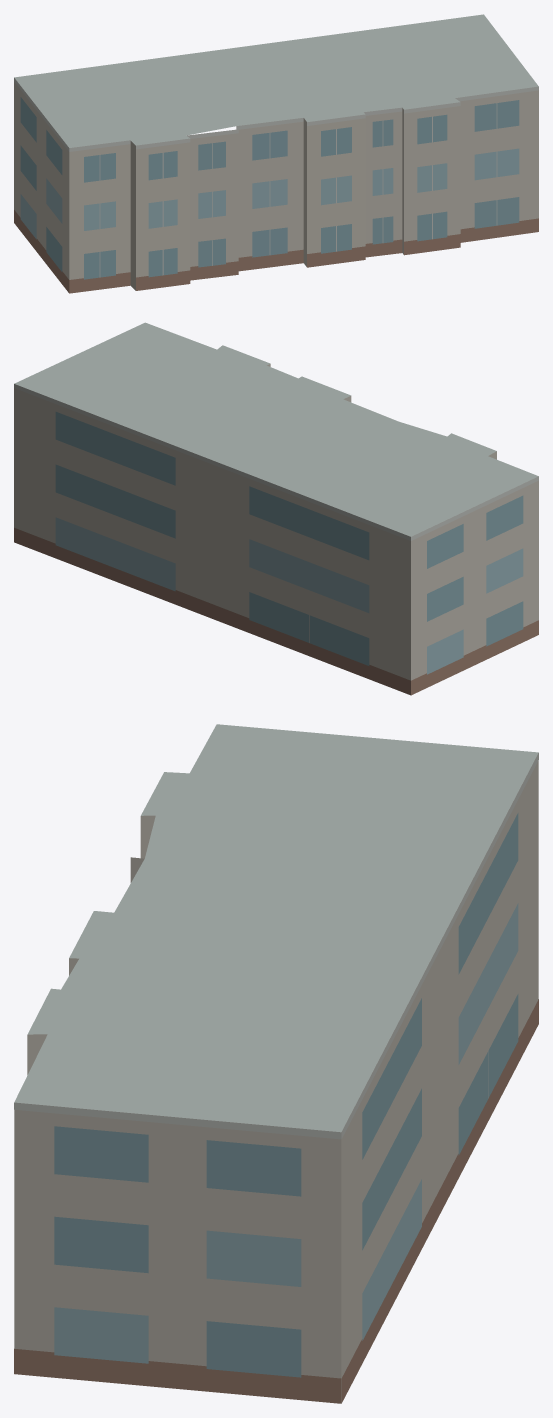
The model's file is survey-upis-32558925.glb.
The picture shows the model from 3 angles, top to bottom: view 1: azimuth 30°, elevation 25°; view 2: azimuth 150°, elevation 25°; view 3: azimuth 270°, elevation 25°; orthographic projection. The views are drawn at different scales.
Visible parts, largest first — view 1: survey-upis-32558925.tmp; view 2: survey-upis-32558925.tmp; view 3: survey-upis-32558925.tmp.
Boxes of the visible parts, x1,y1,x2,y2 form: survey-upis-32558925.tmp: (14,14,538,293); survey-upis-32558925.tmp: (14,322,538,695); survey-upis-32558925.tmp: (14,724,538,1403).
Bounding box in the file's own units: 29.5 × 9.15 × 16.04.
